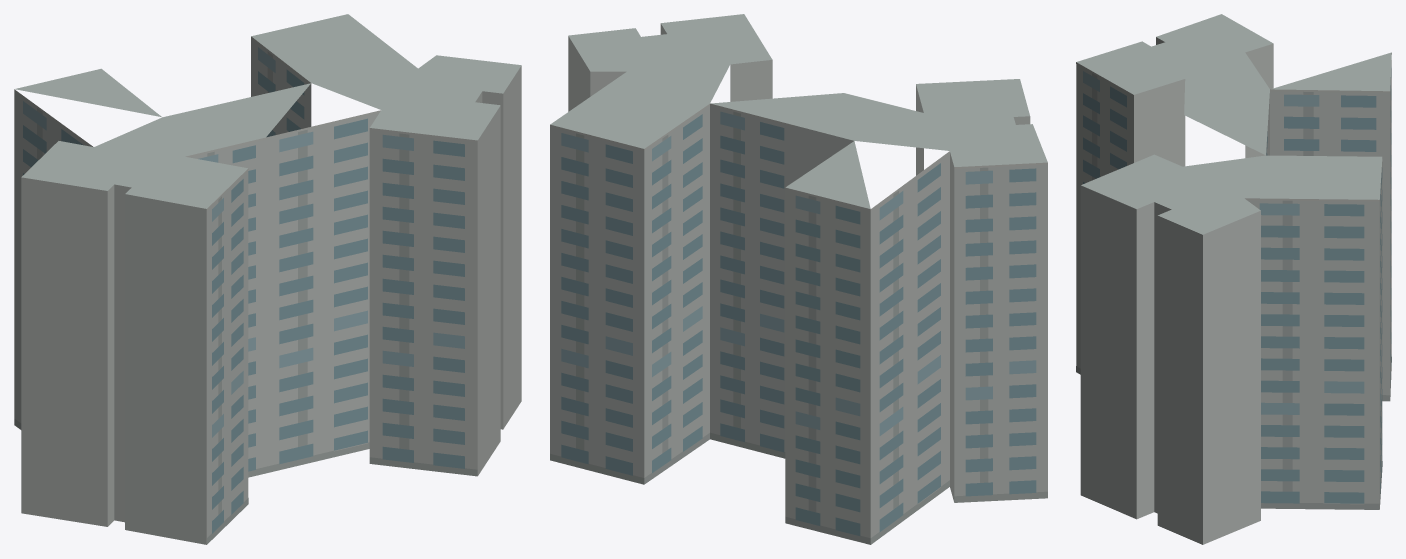
File: residential-fcb42cff-8d23-43c2-965f-76bc9737952f.glb
3 renders of one model, left to right at view 1: azimuth 30°, elevation 25°; view 2: azimuth 150°, elevation 25°; view 3: azimuth 270°, elevation 25°, orthographic. The views are drawn at different scales.
Visible parts, largest first — view 1: residential-fcb42cff-8d23-43c2-965f-76bc9737952f.tmp; view 2: residential-fcb42cff-8d23-43c2-965f-76bc9737952f.tmp; view 3: residential-fcb42cff-8d23-43c2-965f-76bc9737952f.tmp.
Boxes of the visible parts, <box> form: residential-fcb42cff-8d23-43c2-965f-76bc9737952f.tmp: <box>14,14,521,544</box>; residential-fcb42cff-8d23-43c2-965f-76bc9737952f.tmp: <box>550,14,1047,544</box>; residential-fcb42cff-8d23-43c2-965f-76bc9737952f.tmp: <box>1076,14,1391,544</box>.
Bounding box in the file's own units: 61.09 × 40 × 36.9.
